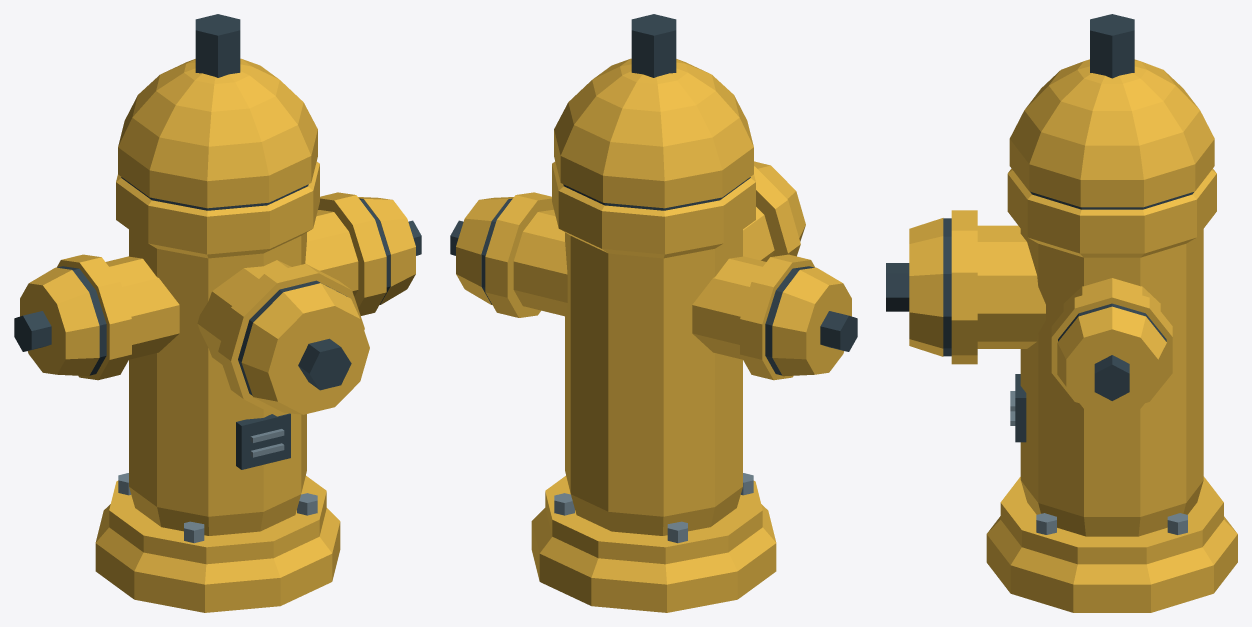
Rendered from fire_hydrant_yellow.glb.
The picture shows the model from 3 angles, left to right: view 1: azimuth 30°, elevation 25°; view 2: azimuth 150°, elevation 25°; view 3: azimuth 270°, elevation 25°; orthographic projection.
Parts seen in each view (by area): view 1: fire_hydrant_yellow; view 2: fire_hydrant_yellow; view 3: fire_hydrant_yellow.
Part boxes in pixels (x1,y1,x2,y2): fire_hydrant_yellow: (14,14,421,612); fire_hydrant_yellow: (450,14,857,612); fire_hydrant_yellow: (886,14,1237,612).
Bounding box in the file's own units: 0.648 × 0.85 × 0.504.
